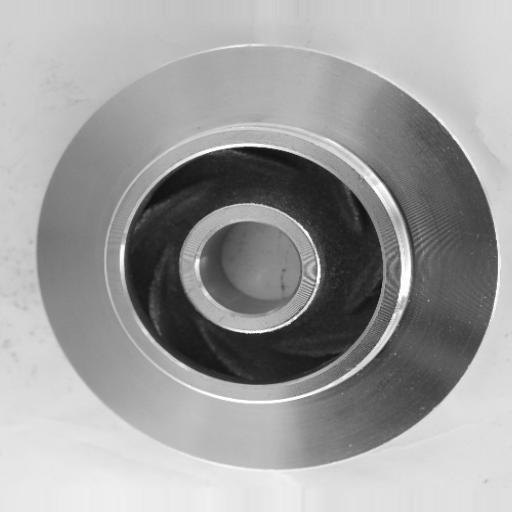polished_casting: (33, 40, 497, 471)
